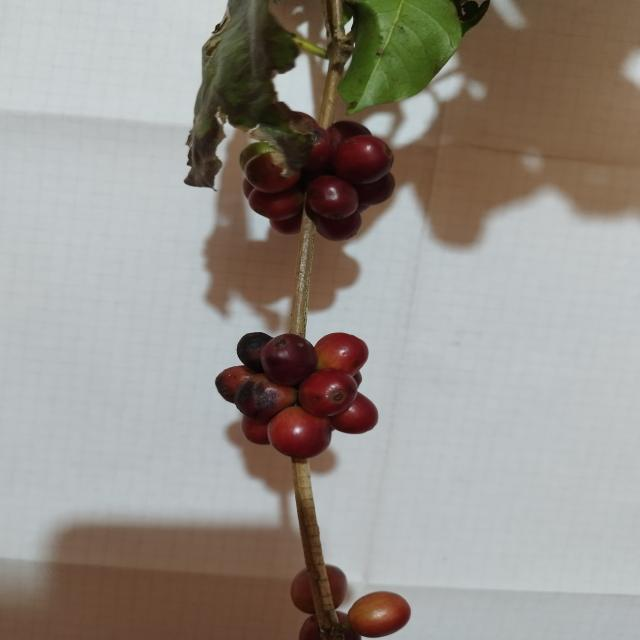Danado: (237, 374, 298, 429), (236, 332, 276, 375), (212, 365, 255, 403)
Infectado: (297, 371, 359, 418)
Sano: (270, 407, 337, 462), (333, 133, 394, 188), (261, 335, 319, 391), (350, 591, 413, 639), (314, 332, 371, 377), (306, 176, 359, 219), (333, 392, 379, 434)
